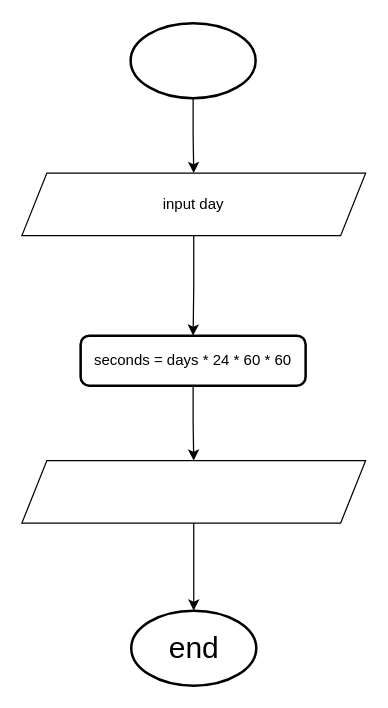
Some shapes in this 388 by 708 pixel diagram are drawn without their labels. The shapes that lost their labels are listed below. From the top down, each one's box as (x1, y1, x2, y2) in pixels, then its label:
(129, 21, 256, 99): start
(21, 459, 366, 523): output days, "days = ", second, "seconds"
